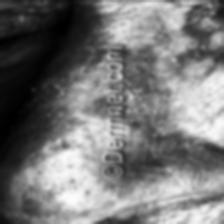Potentially Malignant Skin Tumors: (2, 70, 56, 144), (124, 74, 150, 118)
